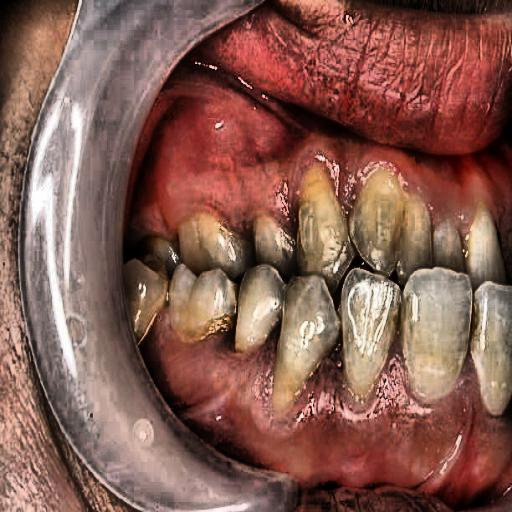Gingivitis: (146, 60, 460, 217), (149, 324, 468, 470)
